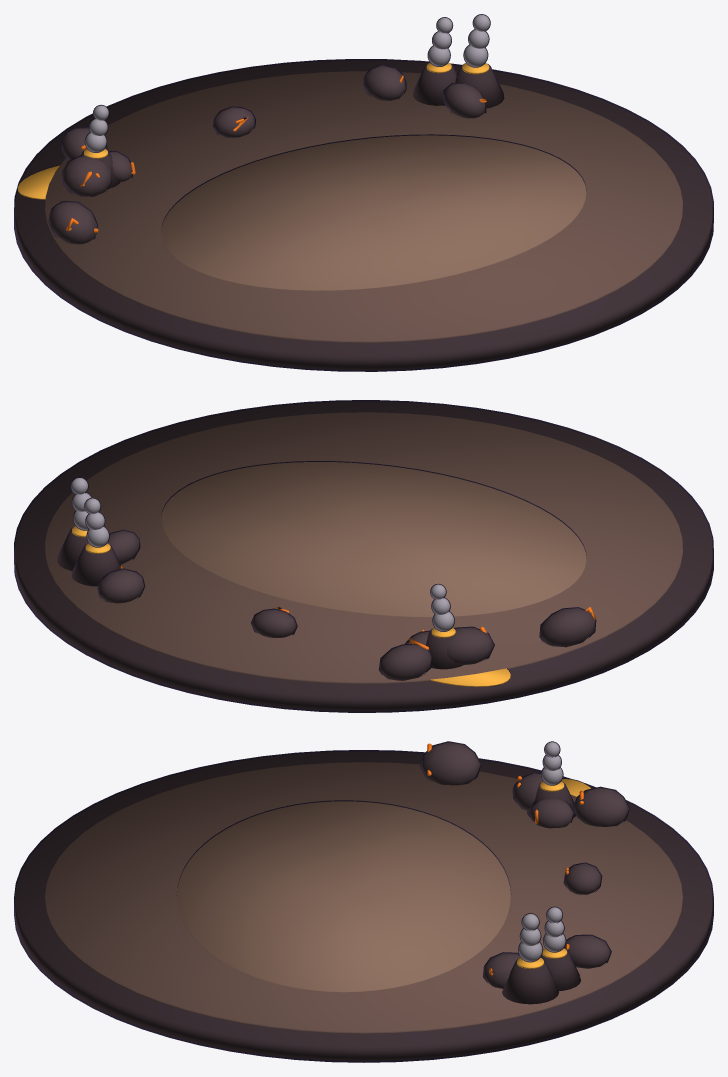
File: ember.glb
3 renders of one model, top to bottom at view 1: azimuth 30°, elevation 25°; view 2: azimuth 150°, elevation 25°; view 3: azimuth 270°, elevation 25°, orthographic.
Parts seen in each view (by area): view 1: ground, floor, skirt, rock, rock.003, rock.001, rock.002, vent.002, rock.004, vent.001, lavapool, rock.005; view 2: ground, floor, skirt, rock, rock.005, rock.003, rock.001, vent.002, rock.004, lavapool, rock.002, vent (+1 smaller); view 3: ground, floor, skirt, rock, rock.005, vent.001, rock.001, rock.006, rock.004, vent.002, rock.002, rock.003.
Boxes of the visible parts, box(x1,y1,x2,y2) form: ground: box(45, 71, 682, 342); floor: box(161, 134, 586, 290); skirt: box(14, 59, 713, 371); rock: box(48, 200, 97, 244); rock.003: box(62, 155, 112, 196); rock.001: box(363, 64, 406, 100); rock.002: box(443, 82, 486, 118); vent.002: box(412, 63, 456, 105); rock.004: box(213, 106, 255, 137); vent.001: box(455, 63, 504, 108); lavapool: box(17, 164, 60, 199); rock.005: box(61, 127, 107, 160); ground: box(45, 412, 682, 683); floor: box(161, 461, 586, 617); skirt: box(14, 400, 713, 712); rock: box(539, 607, 596, 647); rock.005: box(378, 643, 432, 680); rock.003: box(447, 626, 494, 664); rock.001: box(97, 568, 145, 603); vent.002: box(71, 544, 120, 586); rock.004: box(251, 608, 297, 638); lavapool: box(430, 668, 510, 686); rock.002: box(107, 529, 140, 564); vent: box(426, 628, 463, 669); ground: box(45, 762, 682, 1033); floor: box(176, 800, 511, 992); skirt: box(14, 750, 713, 1062); rock: box(419, 741, 481, 785); rock.005: box(572, 786, 630, 826); vent.001: box(502, 958, 558, 1004); rock.001: box(564, 934, 611, 968); rock.006: box(529, 799, 574, 828); rock.004: box(563, 862, 602, 894); vent.002: box(540, 949, 580, 990); rock.002: box(483, 952, 520, 988); rock.003: box(512, 772, 561, 810).
Bounding box in the file's own units: 21.07 × 3.3 × 21.07.
